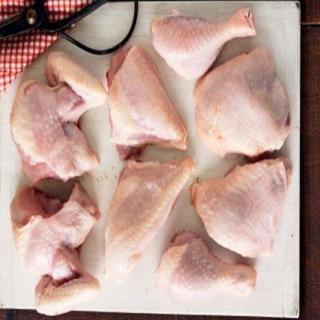Ayam: (10, 48, 110, 187), (9, 181, 103, 318), (103, 154, 201, 284), (192, 45, 294, 161), (189, 155, 295, 262), (105, 43, 191, 166), (151, 7, 260, 83), (154, 229, 260, 304)
